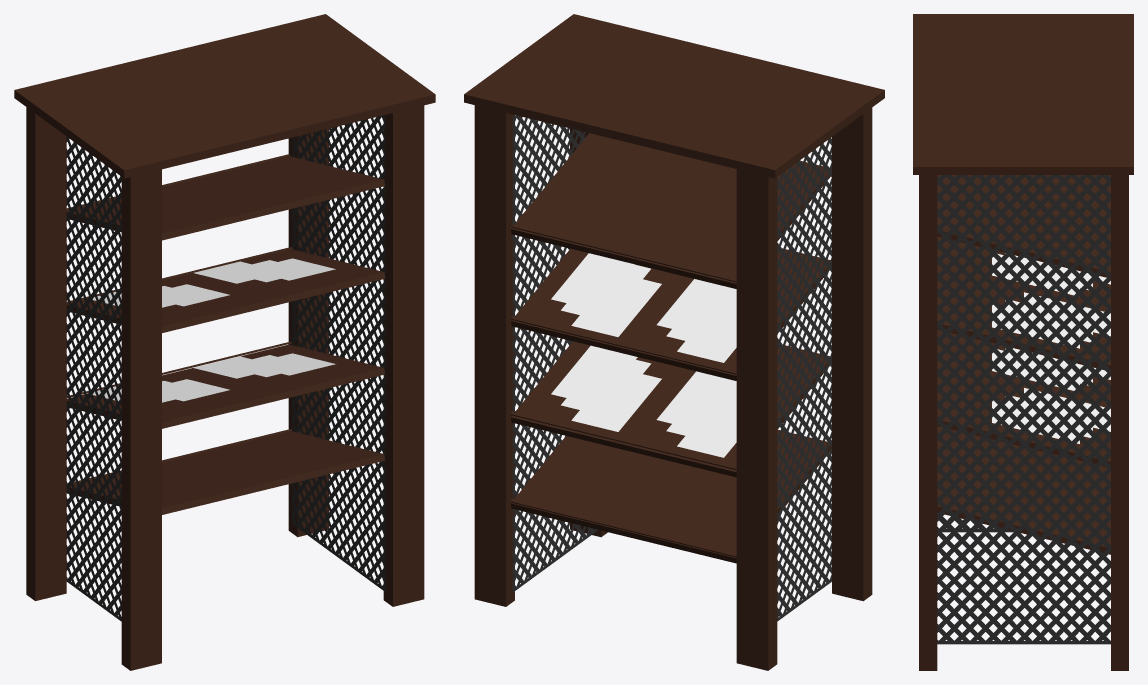
Rendered from Ablage_Stellage.obj.
The picture shows the model from 3 angles, left to right: view 1: azimuth 30°, elevation 25°; view 2: azimuth 150°, elevation 25°; view 3: azimuth 270°, elevation 25°; orthographic projection.
Parts seen in each view (by area): view 1: Plane007, Object001, Box004, Box002, Box003, Plane001, Box010, Box011, Box008, Box009, Box001, Plane010 (+1 smaller); view 2: Plane007, Box010, Box003, Box001, Box004, Plane001, Box011, Object001, Box008, Box009, Plane010, Plane006 (+14 smaller); view 3: Object001, Plane007, Box002, Box001, Box011, Box010, Box008, Box009, Plane006, Plane010, Plane005, Plane009 (+6 smaller).
Boxes of the visible parts, x1,y1,x2,y2 form: Plane007: (14,14,435,178); Object001: (292,115,385,592); Box004: (121,169,161,670); Box002: (383,105,424,606); Box003: (26,107,66,600); Plane001: (66,137,121,621); Box010: (66,156,384,240); Box011: (66,431,384,514); Box008: (66,344,384,428); Box009: (66,249,385,332); Box001: (288,128,328,537); Plane010: (194,261,283,283); Plane007: (464,14,884,178); Box010: (510,133,831,288); Box003: (736,169,777,670); Box001: (474,105,514,606); Box004: (832,108,872,601); Plane001: (777,137,831,621); Box011: (510,429,831,563); Object001: (512,115,597,592); Box008: (510,341,831,477); Box009: (511,248,831,380); Plane010: (571,272,661,336); Plane006: (571,367,661,431); Object001: (937,175,1110,644); Plane007: (913,14,1133,174); Box002: (919,175,937,670); Box001: (1111,175,1128,670); Box011: (937,426,1110,554); Box010: (937,175,1110,277); Box008: (937,329,1110,466); Box009: (937,236,1110,370); Plane006: (1024,388,1110,431); Plane010: (1024,292,1110,336); Plane005: (1005,396,1092,437); Plane009: (1005,300,1092,342).
Size of the model in its own units: 39.62 by 61.42 by 24.2.
